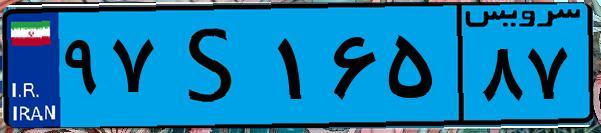1: (270, 28, 330, 110)
5: (385, 28, 445, 110)
6: (330, 28, 385, 110)
7: (525, 38, 570, 115), (110, 28, 158, 98)
8: (475, 38, 525, 113)
9: (57, 26, 110, 100)
S: (158, 12, 270, 120)
